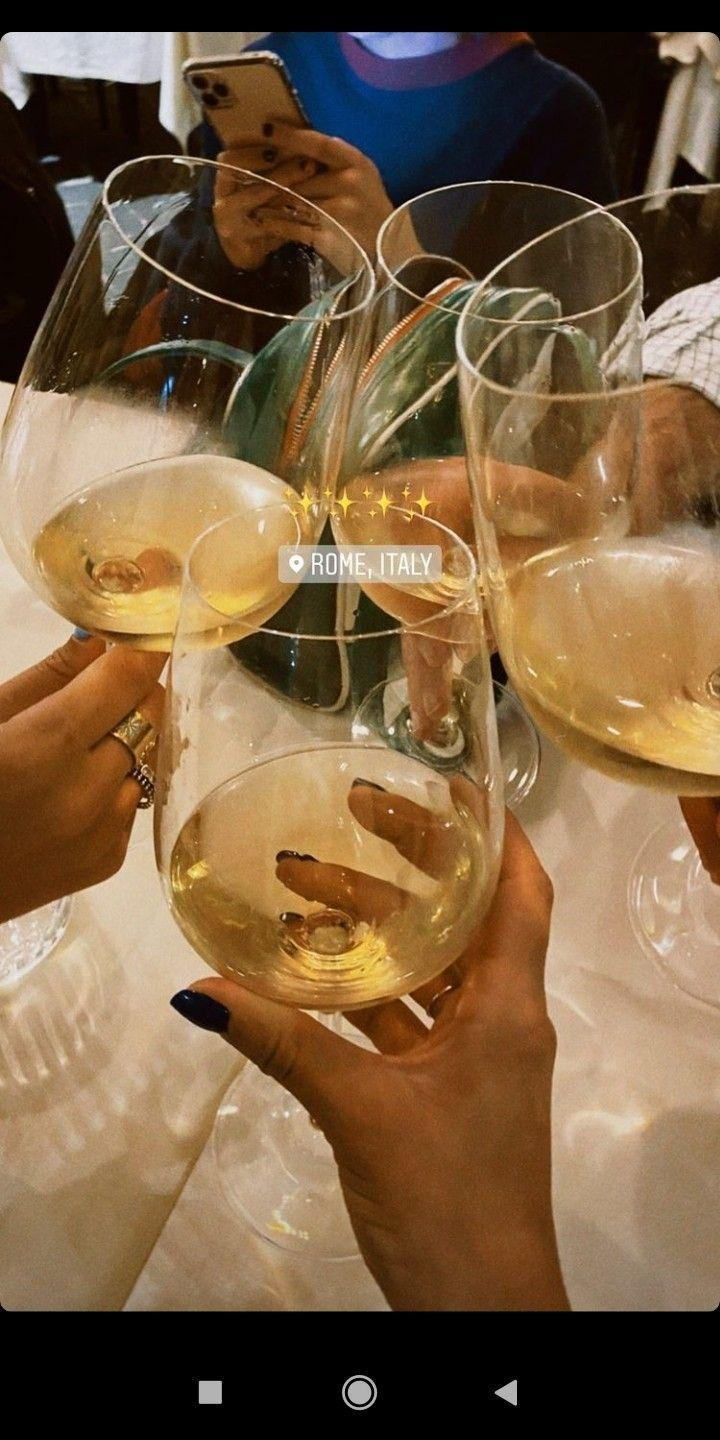glass-wine: (1, 142, 396, 1028), (147, 501, 511, 1266), (451, 191, 720, 1029), (329, 178, 650, 812)
